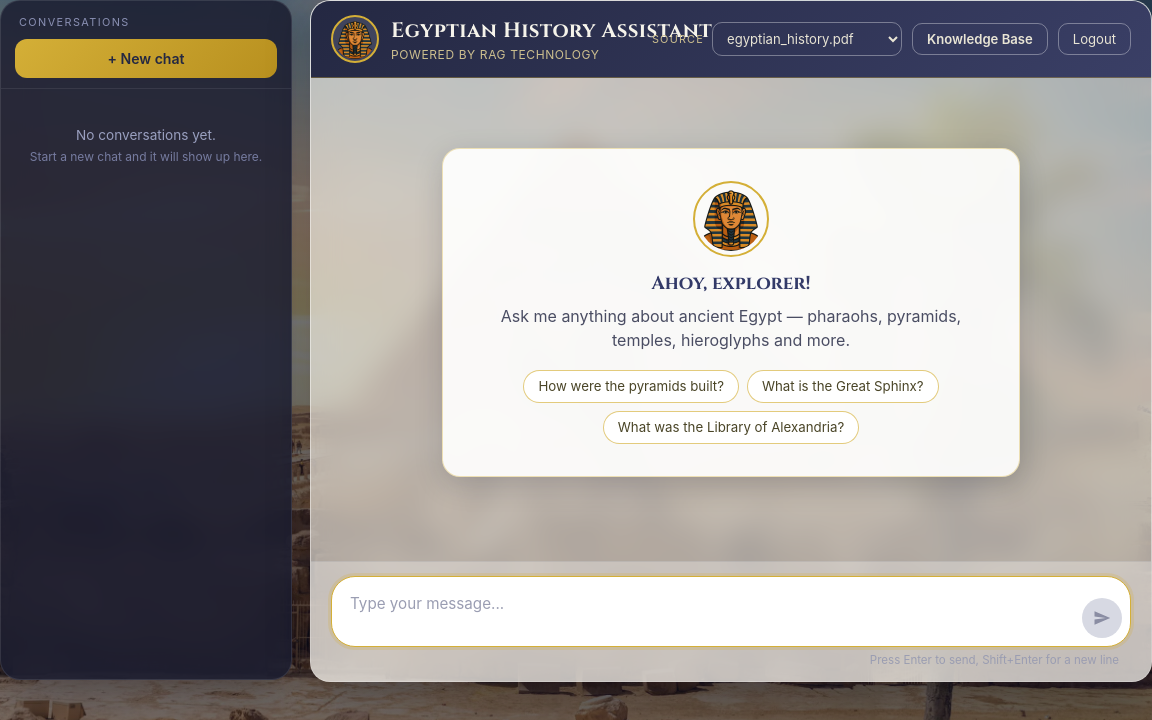
Test case: ChatInterface › guides instead of querying on a vague first question
expect the text "No conversations yet." is shown: met, box [76,127,216,143]
Type "tell me more" into the text box with placeholder "Type your message...".
click(712, 612); type("tell me more")  # box [350,585,1074,638]
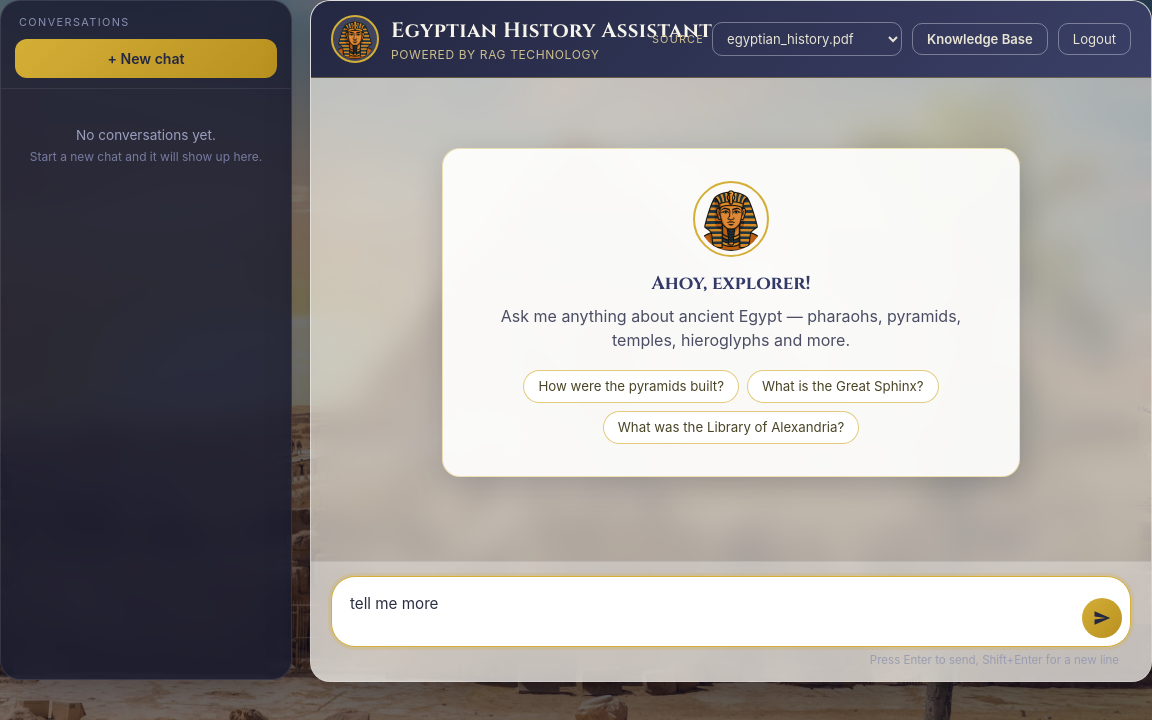
Press Enter in the text box with placeholder "Type your message...", box [350,585,1074,638]
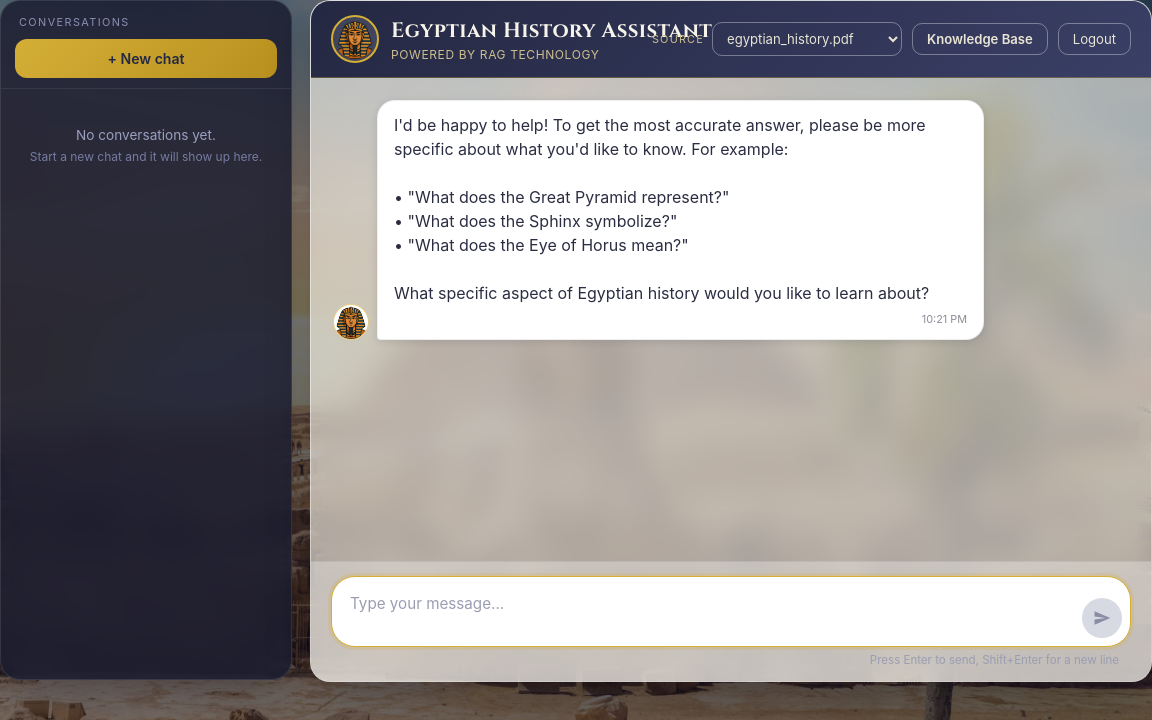
expect the text "please be more specific" is shown: met, box [394,115,930,303]
expect the text box with placeholder "Type your message..." is empty: met, box [350,585,1074,638]
